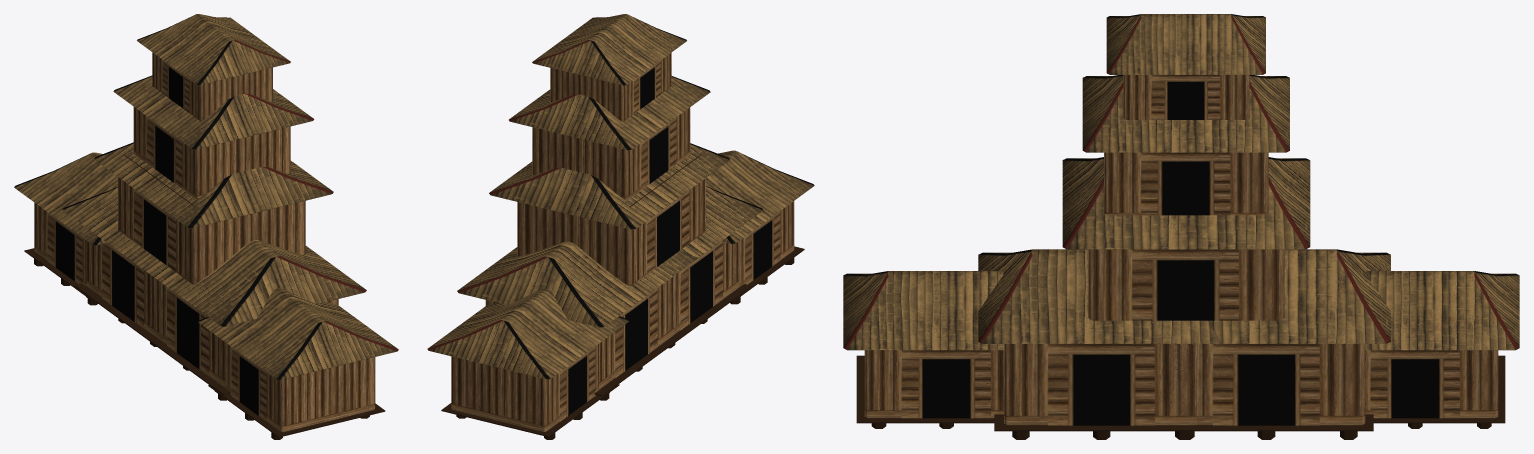
Rendered from Big_house.fbx.
The picture shows the model from 3 angles, left to right: view 1: azimuth 30°, elevation 25°; view 2: azimuth 150°, elevation 25°; view 3: azimuth 270°, elevation 25°; orthographic projection. The views are drawn at different scales.
Parts seen in each view (by area): view 1: polySurface643; view 2: polySurface643; view 3: polySurface643.
Boxes of the visible parts, <box> form: polySurface643: <box>14,14,398,439</box>; polySurface643: <box>427,14,814,439</box>; polySurface643: <box>843,14,1519,439</box>.
Size of the model in its own units: 3.11 by 6.26 by 9.77.
